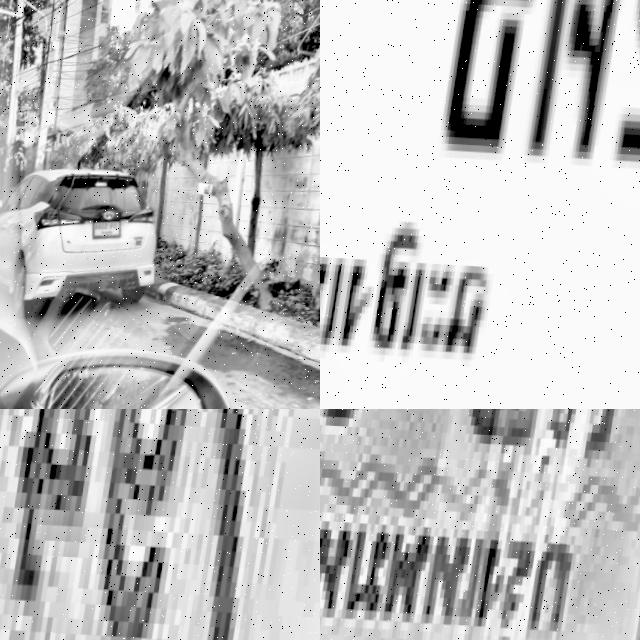license-plate: (320, 0, 640, 409), (0, 409, 320, 640), (320, 409, 640, 640), (97, 217, 132, 245)
